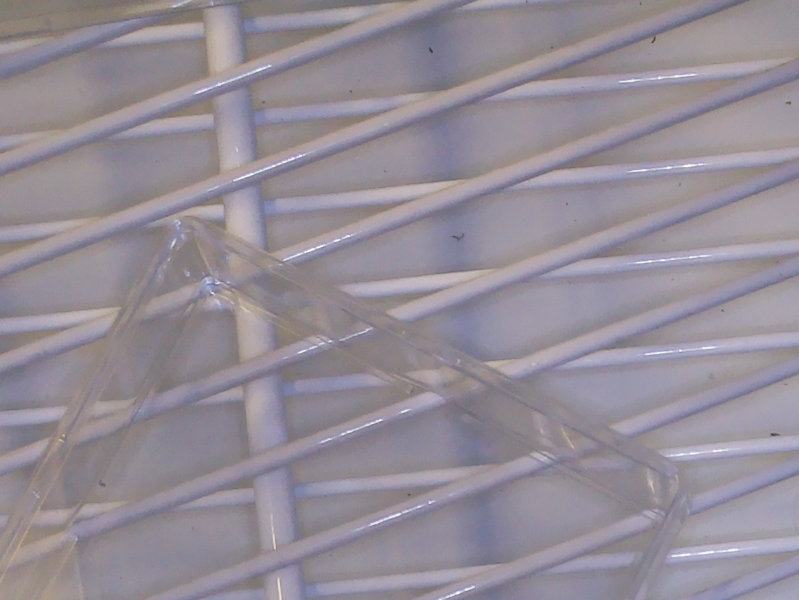plate: (1, 211, 695, 600)
